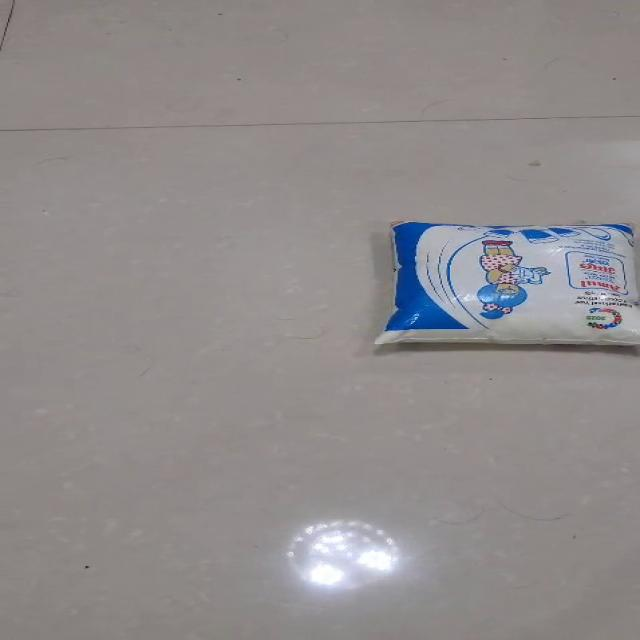plastic: (372, 218, 639, 346)
